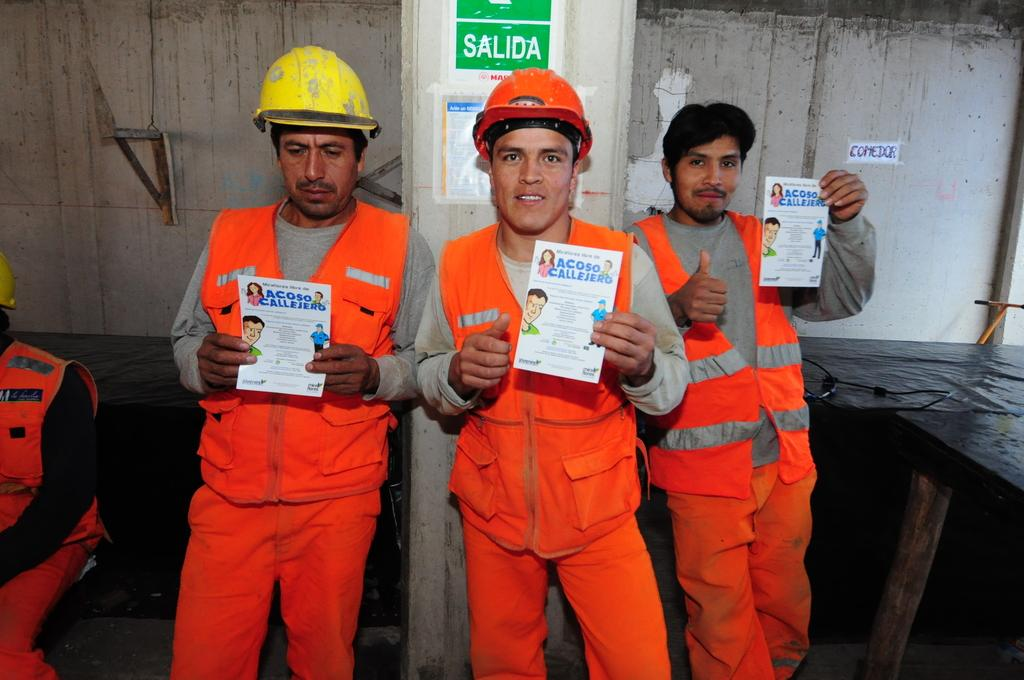helmet: (253, 45, 377, 215), (474, 67, 593, 228)
nohelmet: (660, 101, 757, 228)
